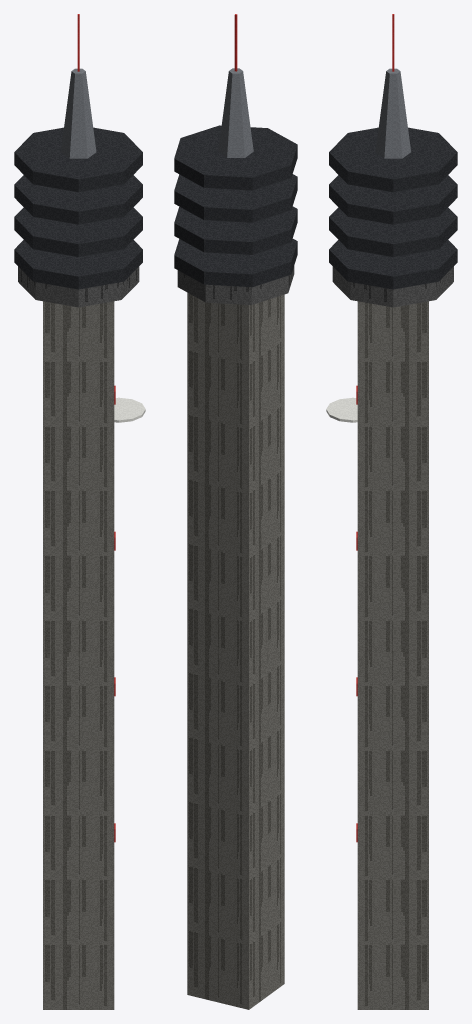
File: env_beacon_tower.glb
3 renders of one model, left to right at view 1: azimuth 90°, elevation 25°; view 2: azimuth 150°, elevation 25°; view 3: azimuth 270°, elevation 25°, orthographic.
Parts seen in each view (by area): view 1: env_beacon_tower; view 2: env_beacon_tower; view 3: env_beacon_tower.
Part boxes in pixels (left/top/right/bottom): env_beacon_tower: left=14, top=14, right=145, bottom=1009; env_beacon_tower: left=174, top=14, right=297, bottom=1009; env_beacon_tower: left=326, top=14, right=457, bottom=1009.
Size of the model in its own units: 7.2 by 60.5 by 7.35.
Materials: 6 (6 with a texture image).
